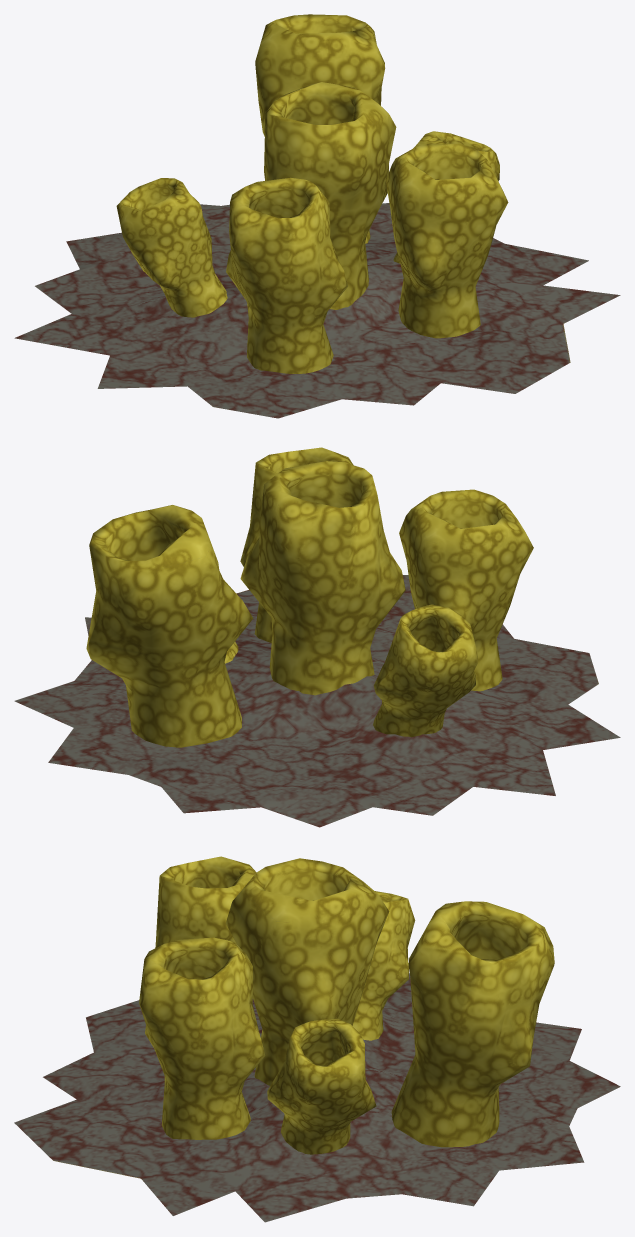
The model's file is Sponge3.fbx.
3 views of the same model, one above another, from view 1: azimuth 30°, elevation 25°; view 2: azimuth 150°, elevation 25°; view 3: azimuth 270°, elevation 25° (orthographic). The views are drawn at different scales.
Visible parts, largest first — view 1: Sponge3; view 2: Sponge3; view 3: Sponge3.
Part boxes in pixels (left/top/right/bottom): Sponge3: left=14, top=14, right=620, bottom=418; Sponge3: left=14, top=447, right=620, bottom=827; Sponge3: left=14, top=856, right=620, bottom=1222.
Bounding box in the file's own units: 2.14 × 0.8848 × 2.07.
